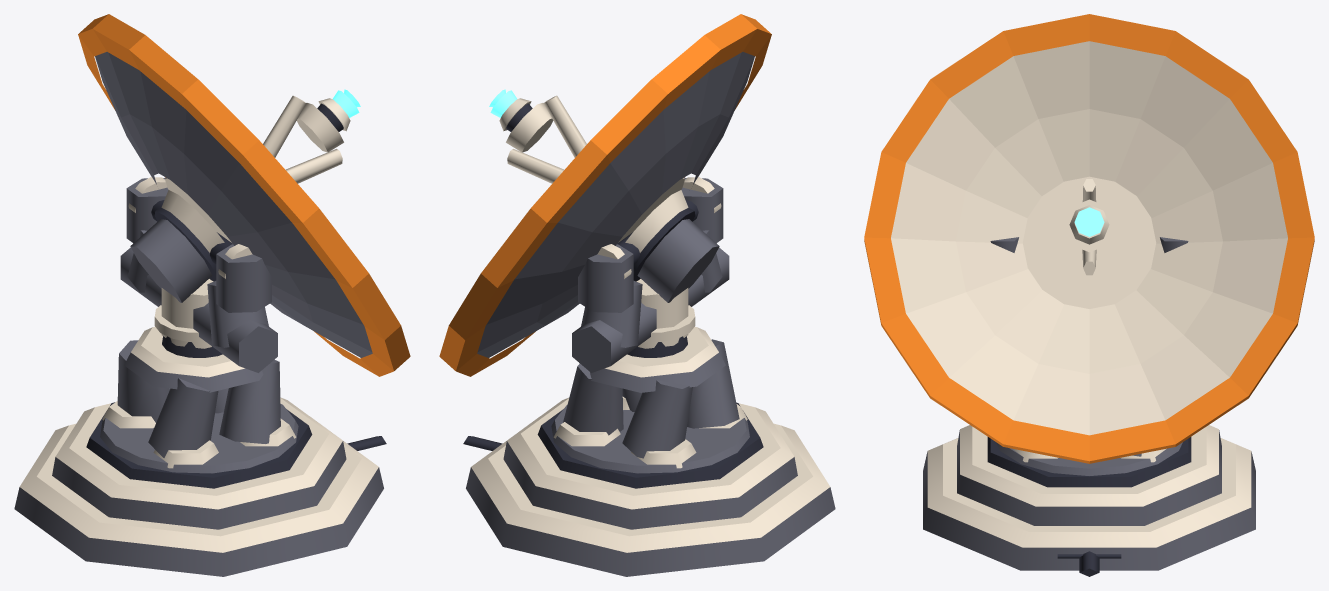
Rendered from asset.glb.
The picture shows the model from 3 angles, left to right: view 1: azimuth 30°, elevation 25°; view 2: azimuth 150°, elevation 25°; view 3: azimuth 270°, elevation 25°; orthographic projection. The views are drawn at different scales.
Visible parts, largest first — view 1: Mesh_DishRearShell, Mesh_OrangeRim, Mesh_BaseBottomChamfer, Mesh_BaseBottom, Mesh_BaseMidChamfer, Mesh_BaseMid, Mesh_BaseTopRing, Mesh_GimbalGearbox, Mesh_BaseTopCollar, Mesh_Leg_BL, Mesh_Leg_FL, Mesh_YokeCrossbeam (+19 smaller); view 2: Mesh_DishRearShell, Mesh_OrangeRim, Mesh_BaseBottomChamfer, Mesh_BaseBottom, Mesh_BaseMidChamfer, Mesh_BaseMid, Mesh_BaseTopRing, Mesh_GimbalGearbox, Mesh_BaseTopCollar, Mesh_Leg_BR, Mesh_YokeCrossbeam, Mesh_YokeArm_L_Upper (+18 smaller); view 3: Mesh_ReflectorFacetedPanels, Mesh_OrangeRim, Mesh_BaseBottomChamfer, Mesh_BaseBottom, Mesh_BaseMidChamfer, Mesh_BaseMid, Mesh_CenterHubBase, Mesh_CenterHubCollar, Mesh_BaseTopCollar, Mesh_CenterHubCap, Mesh_BaseTopRing, Mesh_FeedHornMount.
Part boxes in pixels (x1,y1,x2,y2): Mesh_DishRearShell: [95, 52, 372, 357]; Mesh_OrangeRim: [78, 14, 410, 376]; Mesh_BaseBottomChamfer: [19, 417, 378, 552]; Mesh_BaseBottom: [14, 467, 383, 576]; Mesh_BaseMidChamfer: [55, 397, 342, 509]; Mesh_BaseMid: [52, 441, 346, 529]; Mesh_BaseTopRing: [100, 403, 298, 473]; Mesh_GimbalGearbox: [130, 219, 212, 302]; Mesh_BaseTopCollar: [86, 402, 312, 488]; Mesh_Leg_BL: [148, 378, 218, 457]; Mesh_Leg_FL: [219, 359, 280, 443]; Mesh_YokeCrossbeam: [120, 247, 277, 372]; Mesh_DishRearShell: [477, 52, 754, 357]; Mesh_OrangeRim: [439, 14, 771, 376]; Mesh_BaseBottomChamfer: [471, 417, 830, 552]; Mesh_BaseBottom: [466, 467, 835, 576]; Mesh_BaseMidChamfer: [507, 397, 794, 509]; Mesh_BaseMid: [503, 441, 797, 529]; Mesh_BaseTopRing: [551, 404, 749, 473]; Mesh_GimbalGearbox: [637, 219, 719, 302]; Mesh_BaseTopCollar: [537, 402, 763, 488]; Mesh_Leg_BR: [622, 380, 692, 458]; Mesh_YokeCrossbeam: [572, 247, 729, 372]; Mesh_YokeArm_L_Upper: [578, 244, 633, 312]; Mesh_ReflectorFacetedPanels: [891, 41, 1287, 435]; Mesh_OrangeRim: [864, 14, 1314, 463]; Mesh_BaseBottomChamfer: [927, 438, 1251, 547]; Mesh_BaseBottom: [923, 451, 1255, 570]; Mesh_BaseMidChamfer: [960, 425, 1218, 506]; Mesh_BaseMid: [957, 430, 1221, 525]; Mesh_CenterHubBase: [1022, 176, 1156, 308]; Mesh_CenterHubCollar: [1036, 190, 1142, 294]; Mesh_BaseTopCollar: [987, 437, 1191, 487]; Mesh_CenterHubCap: [1049, 203, 1129, 280]; Mesh_BaseTopRing: [996, 442, 1182, 475]; Mesh_FeedHornMount: [1063, 199, 1115, 252].
Size of the model in its own units: 2.22 by 3.05 by 2.7.
